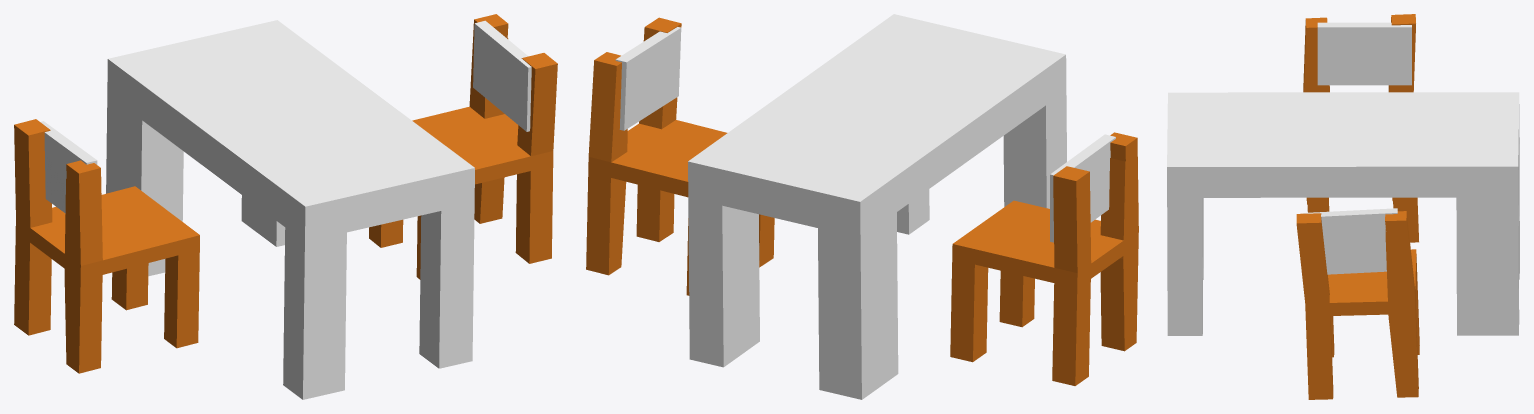
The picture shows the model from 3 angles, left to right: view 1: azimuth 30°, elevation 25°; view 2: azimuth 150°, elevation 25°; view 3: azimuth 270°, elevation 25°; orthographic projection. The views are drawn at different scales.
Parts seen in each view (by area): view 1: Cube.007, Cube.006, Cube.009, Cube.010, Cube.008; view 2: Cube.007, Cube.006, Cube.009, Cube.010, Cube.008; view 3: Cube.007, Cube.009, Cube.008, Cube.010, Cube.006.
Boxes of the visible parts, <box> form: Cube.007: <box>106,20,474,399</box>; Cube.006: <box>14,119,199,373</box>; Cube.009: <box>369,14,557,279</box>; Cube.010: <box>473,20,531,131</box>; Cube.008: <box>40,121,97,213</box>; Cube.007: <box>688,14,1066,399</box>; Cube.006: <box>950,132,1138,385</box>; Cube.009: <box>586,17,774,295</box>; Cube.010: <box>615,27,681,130</box>; Cube.008: <box>1050,134,1115,242</box>; Cube.007: <box>1167,92,1519,335</box>; Cube.009: <box>1296,211,1419,399</box>; Cube.008: <box>1317,22,1411,85</box>; Cube.010: <box>1303,208,1397,274</box>; Cube.006: <box>1303,14,1418,242</box>.
Bounding box in the file's own units: 11.35 × 4.79 × 8.25.
